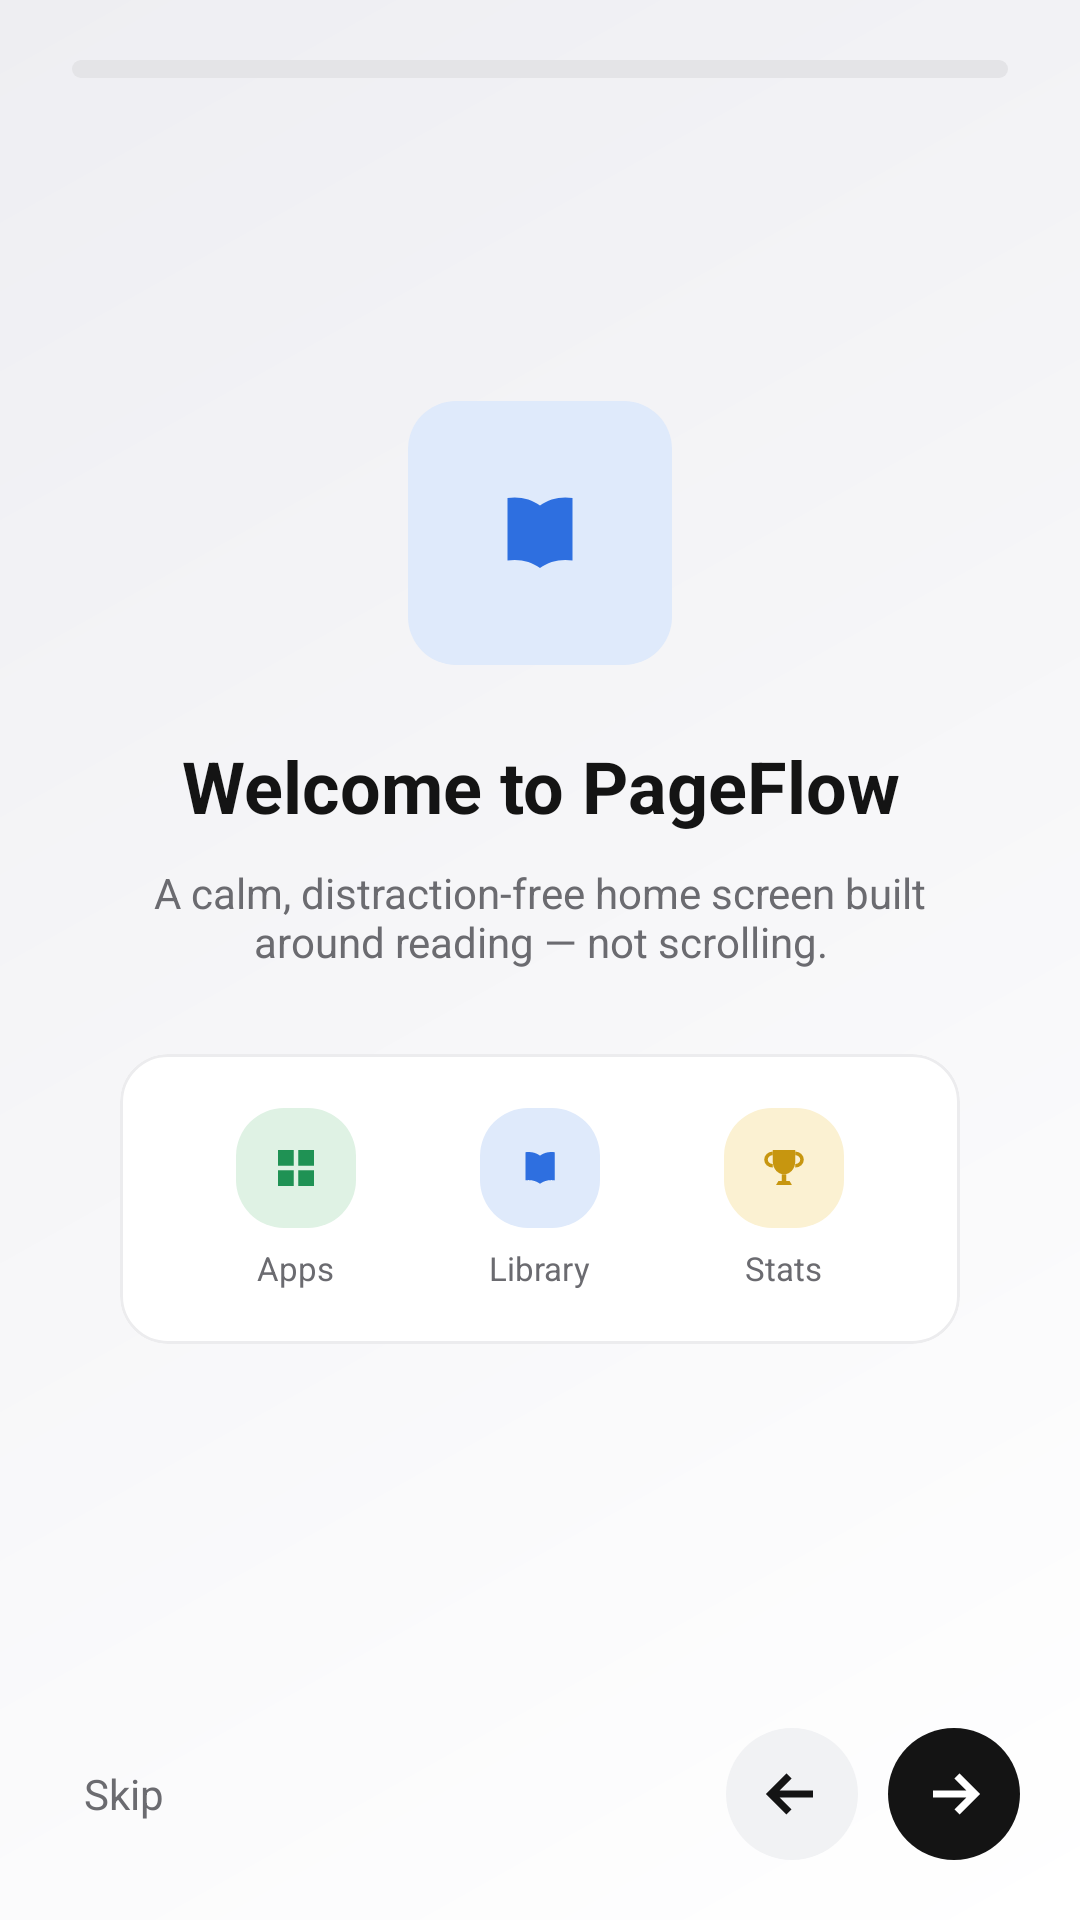

Screen size 1080px×1920px. Icon name, then its center in pixels as [x,y]:
Back: [792,1794]
book: [540,532], [540,1168]
grid: [296,1168]
Next: [954,1794]
trophy: [784,1167]
